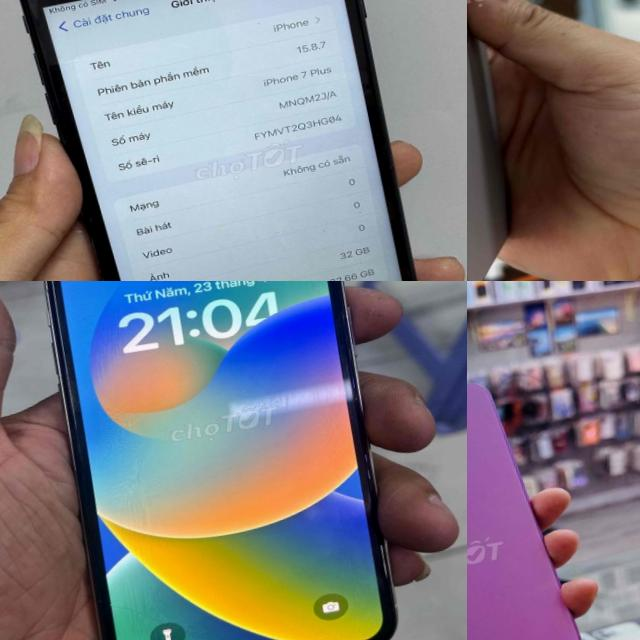gen_15: (467, 0, 542, 281)
gen_16: (467, 383, 578, 640)
gen_7_8: (2, 0, 453, 281)
gen_x_xs: (45, 281, 396, 640)
physical_damage: (106, 576, 258, 640)
